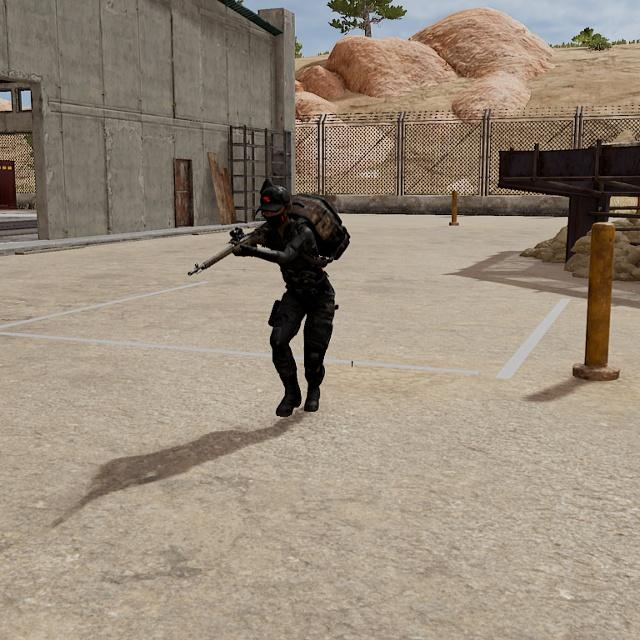people: (233, 173, 353, 422), (255, 177, 297, 234)
